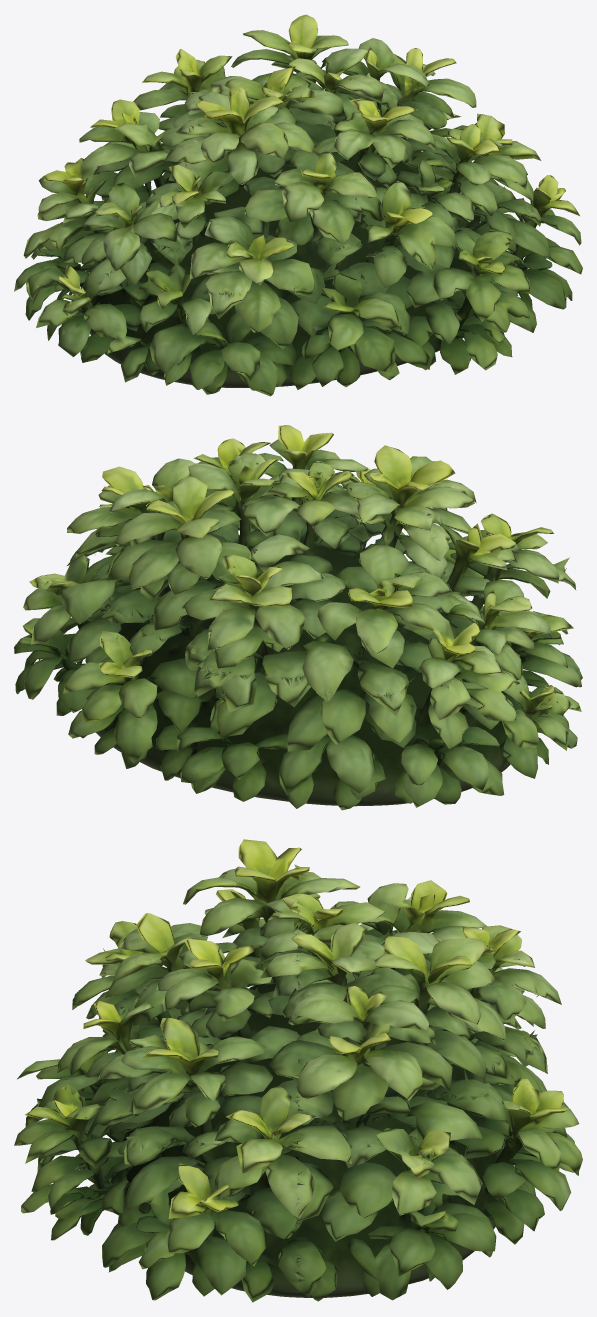
The model's file is tripo_convert_4419ba0f-433e-4954-8a72-e84a652739f0.fbx.
3 renders of one model, top to bottom at view 1: azimuth 30°, elevation 25°; view 2: azimuth 150°, elevation 25°; view 3: azimuth 270°, elevation 25°, orthographic. The views are drawn at different scales.
Parts seen in each view (by area): view 1: tripo_node_4419ba0f; view 2: tripo_node_4419ba0f; view 3: tripo_node_4419ba0f.
Part boxes in pixels (left/top/right/bottom): tripo_node_4419ba0f: left=14, top=14, right=582, bottom=396; tripo_node_4419ba0f: left=14, top=425, right=582, bottom=810; tripo_node_4419ba0f: left=14, top=839, right=582, bottom=1302.
Size of the model in its own units: 0.9809 by 0.4943 by 0.8401.
1 material, 1 textured.
